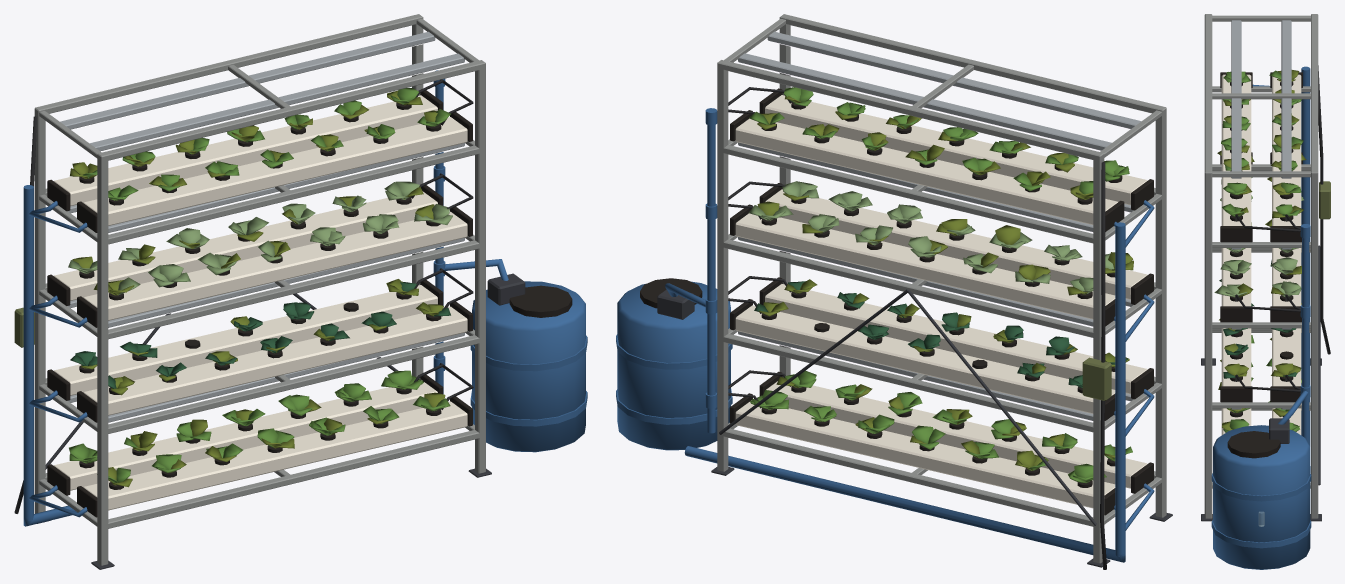
File: deco_hydroponic_rack.fbx
The picture shows the model from 3 angles, left to right: view 1: azimuth 30°, elevation 25°; view 2: azimuth 150°, elevation 25°; view 3: azimuth 270°, elevation 25°; orthographic projection. The views are drawn at different scales.
Visible parts, largest first — view 1: HydroponicRack_Gutters, HydroponicRack_Frame, HydroponicRack_Plumbing, HydroponicRack_Greens, HydroponicRack_GrowLights; view 2: HydroponicRack_Gutters, HydroponicRack_Frame, HydroponicRack_Plumbing, HydroponicRack_Greens, HydroponicRack_GrowLights; view 3: HydroponicRack_Plumbing, HydroponicRack_Frame, HydroponicRack_Gutters, HydroponicRack_Greens, HydroponicRack_GrowLights.
Boxes of the visible parts, x1=… form: HydroponicRack_Gutters: x1=47, y1=90, x2=472, y2=517; HydroponicRack_Frame: x1=34, y1=14, x2=491, y2=569; HydroponicRack_Plumbing: x1=23, y1=70, x2=587, y2=526; HydroponicRack_Greens: x1=68, y1=88, x2=452, y2=487; HydroponicRack_GrowLights: x1=14, y1=31, x2=464, y2=513; HydroponicRack_Gutters: x1=730, y1=88, x2=1153, y2=515; HydroponicRack_Frame: x1=711, y1=14, x2=1172, y2=567; HydroponicRack_Plumbing: x1=616, y1=87, x2=1154, y2=562; HydroponicRack_Greens: x1=749, y1=87, x2=1133, y2=482; HydroponicRack_GrowLights: x1=738, y1=31, x2=1141, y2=569; HydroponicRack_Plumbing: x1=1211, y1=66, x2=1311, y2=569; HydroponicRack_Frame: x1=1201, y1=14, x2=1321, y2=521; HydroponicRack_Gutters: x1=1220, y1=72, x2=1302, y2=434; HydroponicRack_Greens: x1=1214, y1=70, x2=1306, y2=432; HydroponicRack_GrowLights: x1=1231, y1=20, x2=1330, y2=409.
Size of the model in its own units: 353 by 260 by 88.
